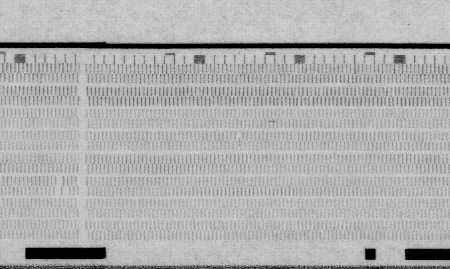Broken hole: (52, 176, 71, 196)
Oblique printing: (234, 131, 245, 147)
